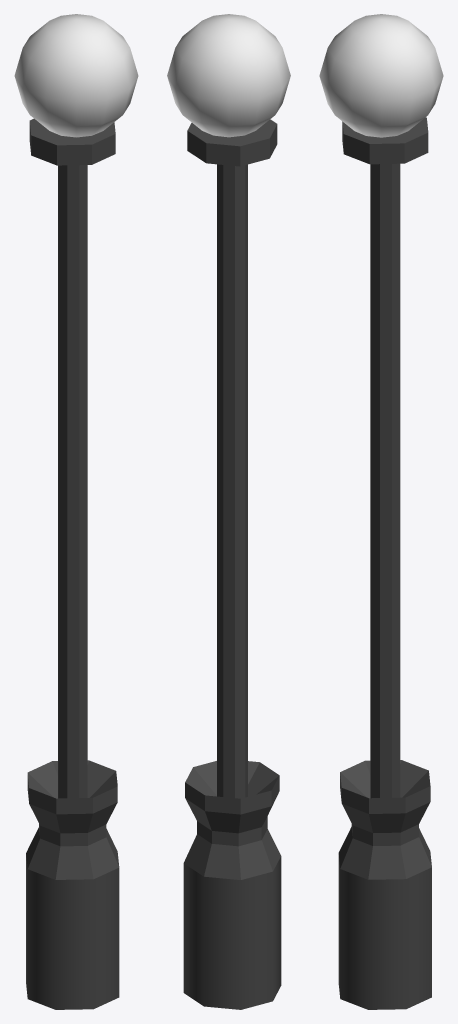
The model's file is Poste1Bolinha.FBX.
3 views of the same model, side by side, from view 1: azimuth 90°, elevation 25°; view 2: azimuth 210°, elevation 25°; view 3: azimuth 270°, elevation 25° (orthographic).
Visible parts, largest first — view 1: Cylinder004; view 2: Cylinder004; view 3: Cylinder004.
Boxes of the visible parts, x1,y1,x2,y2 form: Cylinder004: [14, 14, 138, 1009]; Cylinder004: [167, 14, 290, 1009]; Cylinder004: [319, 14, 443, 1009].
Bounding box in the file's own units: 0.7014 × 6.05 × 0.7014.
